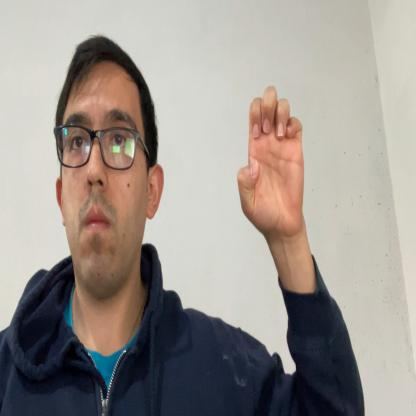E: (237, 84, 306, 234)
